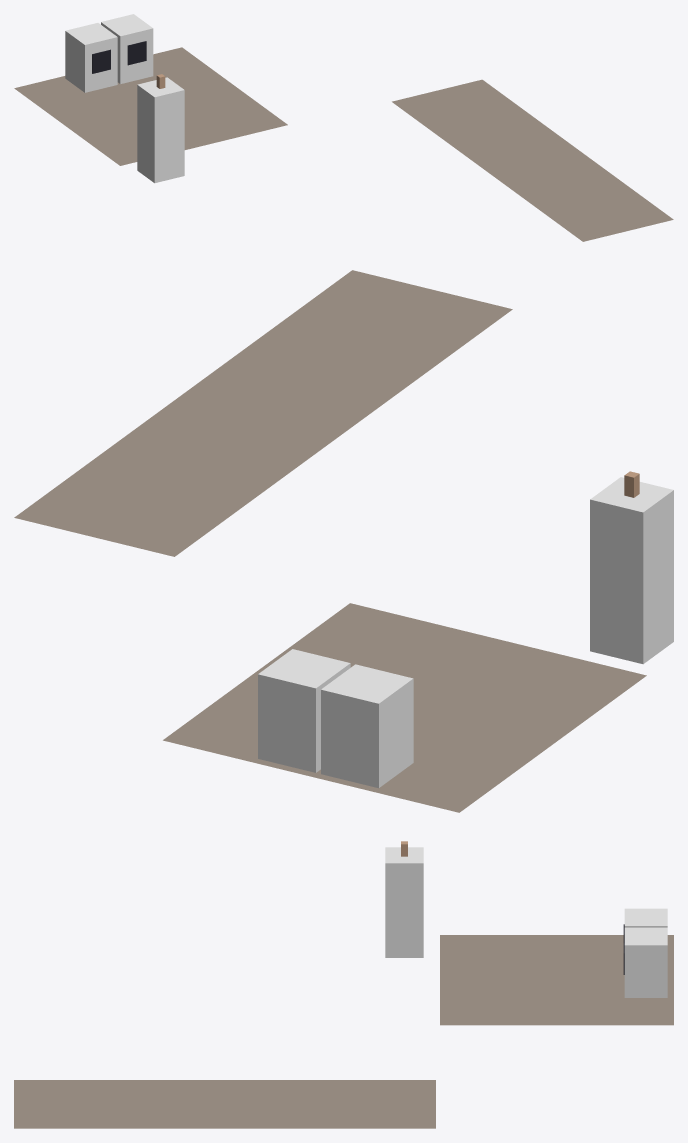
File: fine-s0.glb
The picture shows the model from 3 angles, top to bottom: view 1: azimuth 30°, elevation 25°; view 2: azimuth 150°, elevation 25°; view 3: azimuth 270°, elevation 25°; orthographic projection. The views are drawn at different scales.
Parts seen in each view (by area): view 1: soft-s0, water-heater.000, washer.000, washer.001; view 2: soft-s0, water-heater.000, washer.000, washer.001; view 3: soft-s0, water-heater.000, washer.001, washer.000.
Part boxes in pixels (x1=…): soft-s0: x1=14, y1=47, x2=673, y2=241; water-heater.000: x1=137, y1=74, x2=184, y2=183; washer.000: x1=65, y1=23, x2=117, y2=92; washer.001: x1=101, y1=14, x2=153, y2=83; soft-s0: x1=14, y1=270, x2=646, y2=812; water-heater.000: x1=590, y1=471, x2=673, y2=664; washer.000: x1=321, y1=664, x2=413, y2=788; washer.001: x1=258, y1=649, x2=350, y2=772; soft-s0: x1=14, y1=935, x2=673, y2=1128; water-heater.000: x1=385, y1=841, x2=423, y2=957; washer.001: x1=623, y1=927, x2=667, y2=997; washer.000: x1=623, y1=908, x2=667, y2=943.
Bounding box in the file's own units: 6.58 × 1.7 × 9.48.
